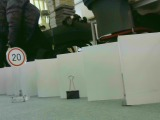speed_20: (5, 47, 27, 67)
